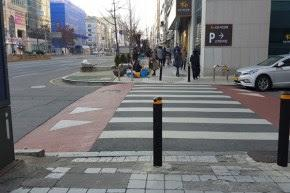crosswalk: (90, 84, 283, 156)
